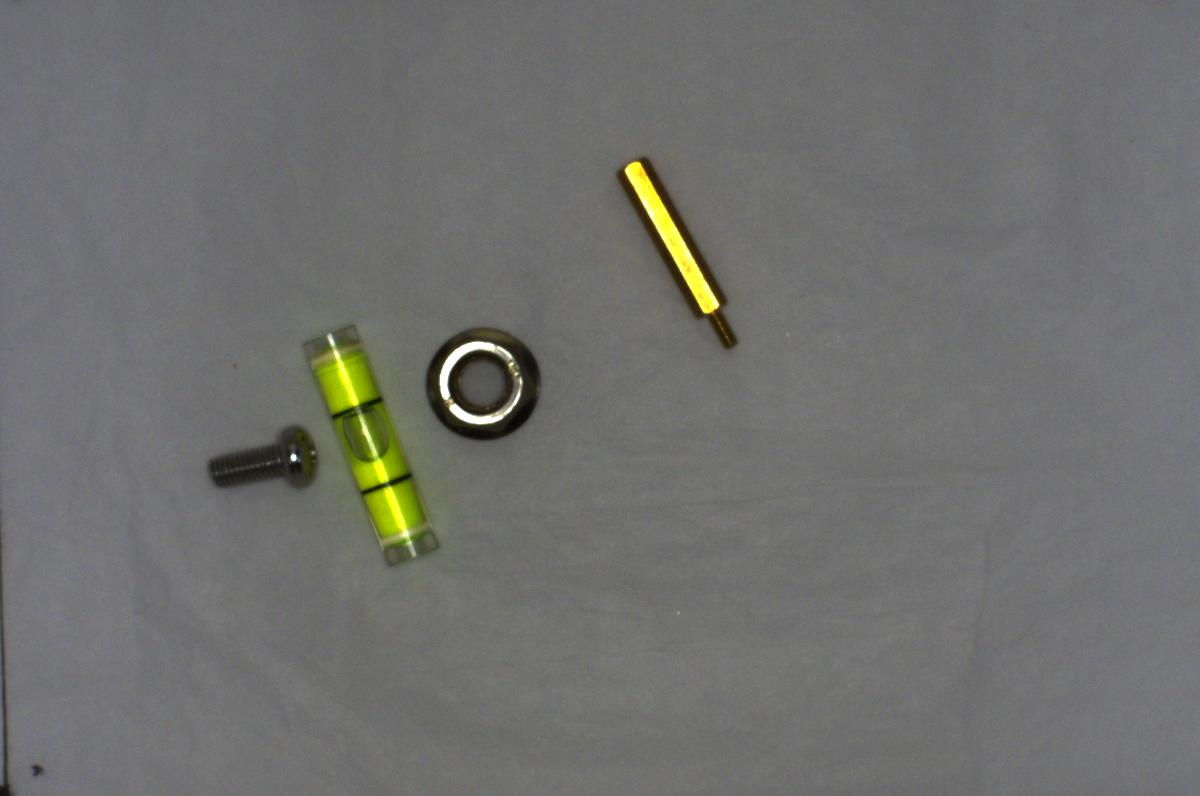Flange nut: (415, 325, 550, 449)
Hexagon pillar: (610, 149, 751, 355)
Horizontal bubble: (297, 313, 445, 578)
Round head screw: (184, 415, 322, 501)
